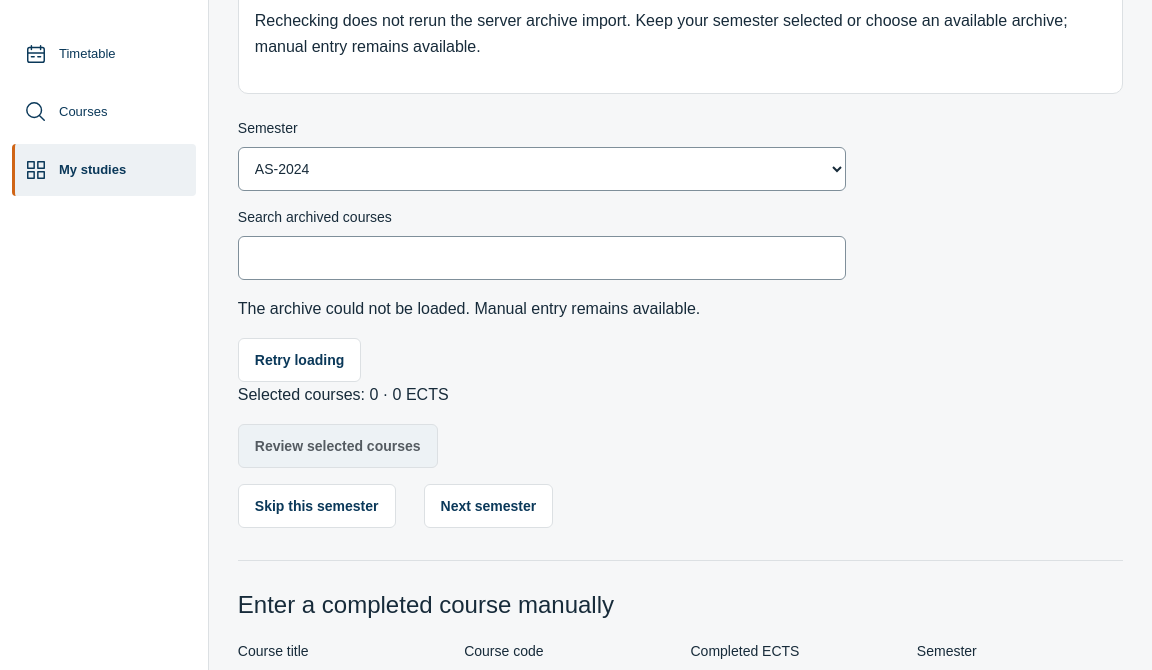
retries only course loading when coverage is already published
(page scrolled)
Click the button "Retry loading" at {"x": 300, "y": 360}, box left=238, top=338, right=361, bottom=382
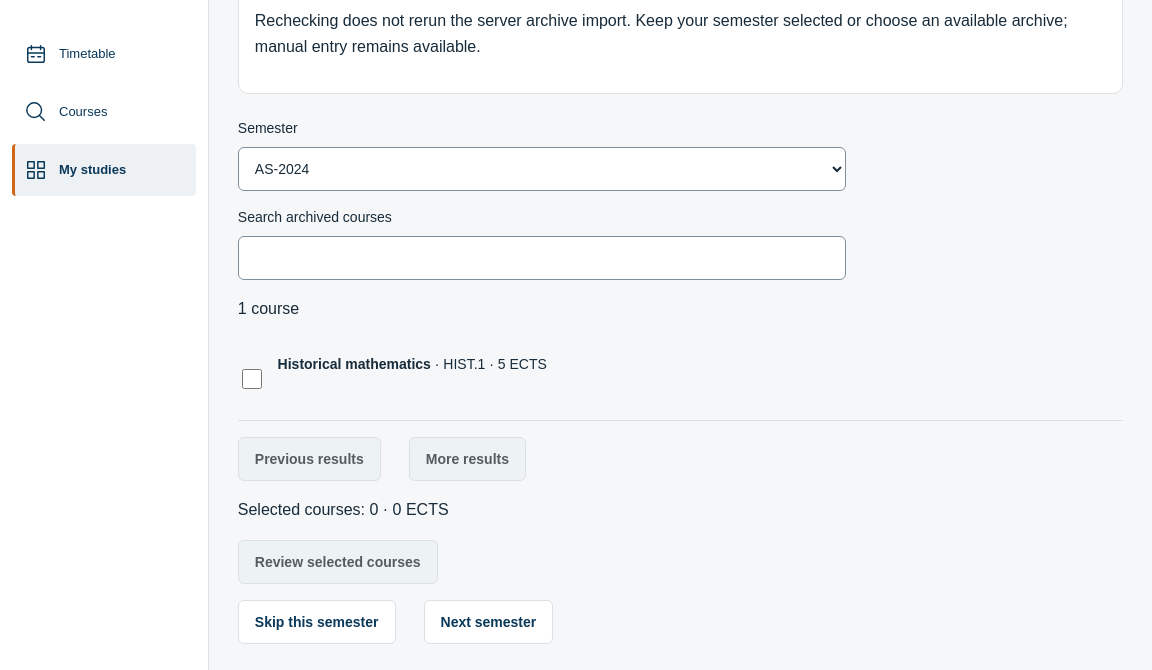
Result: the checkbox labelled "Historical mathematics · HIST.1 · 5 ECTS" is enabled at left=242, top=357, right=262, bottom=401
